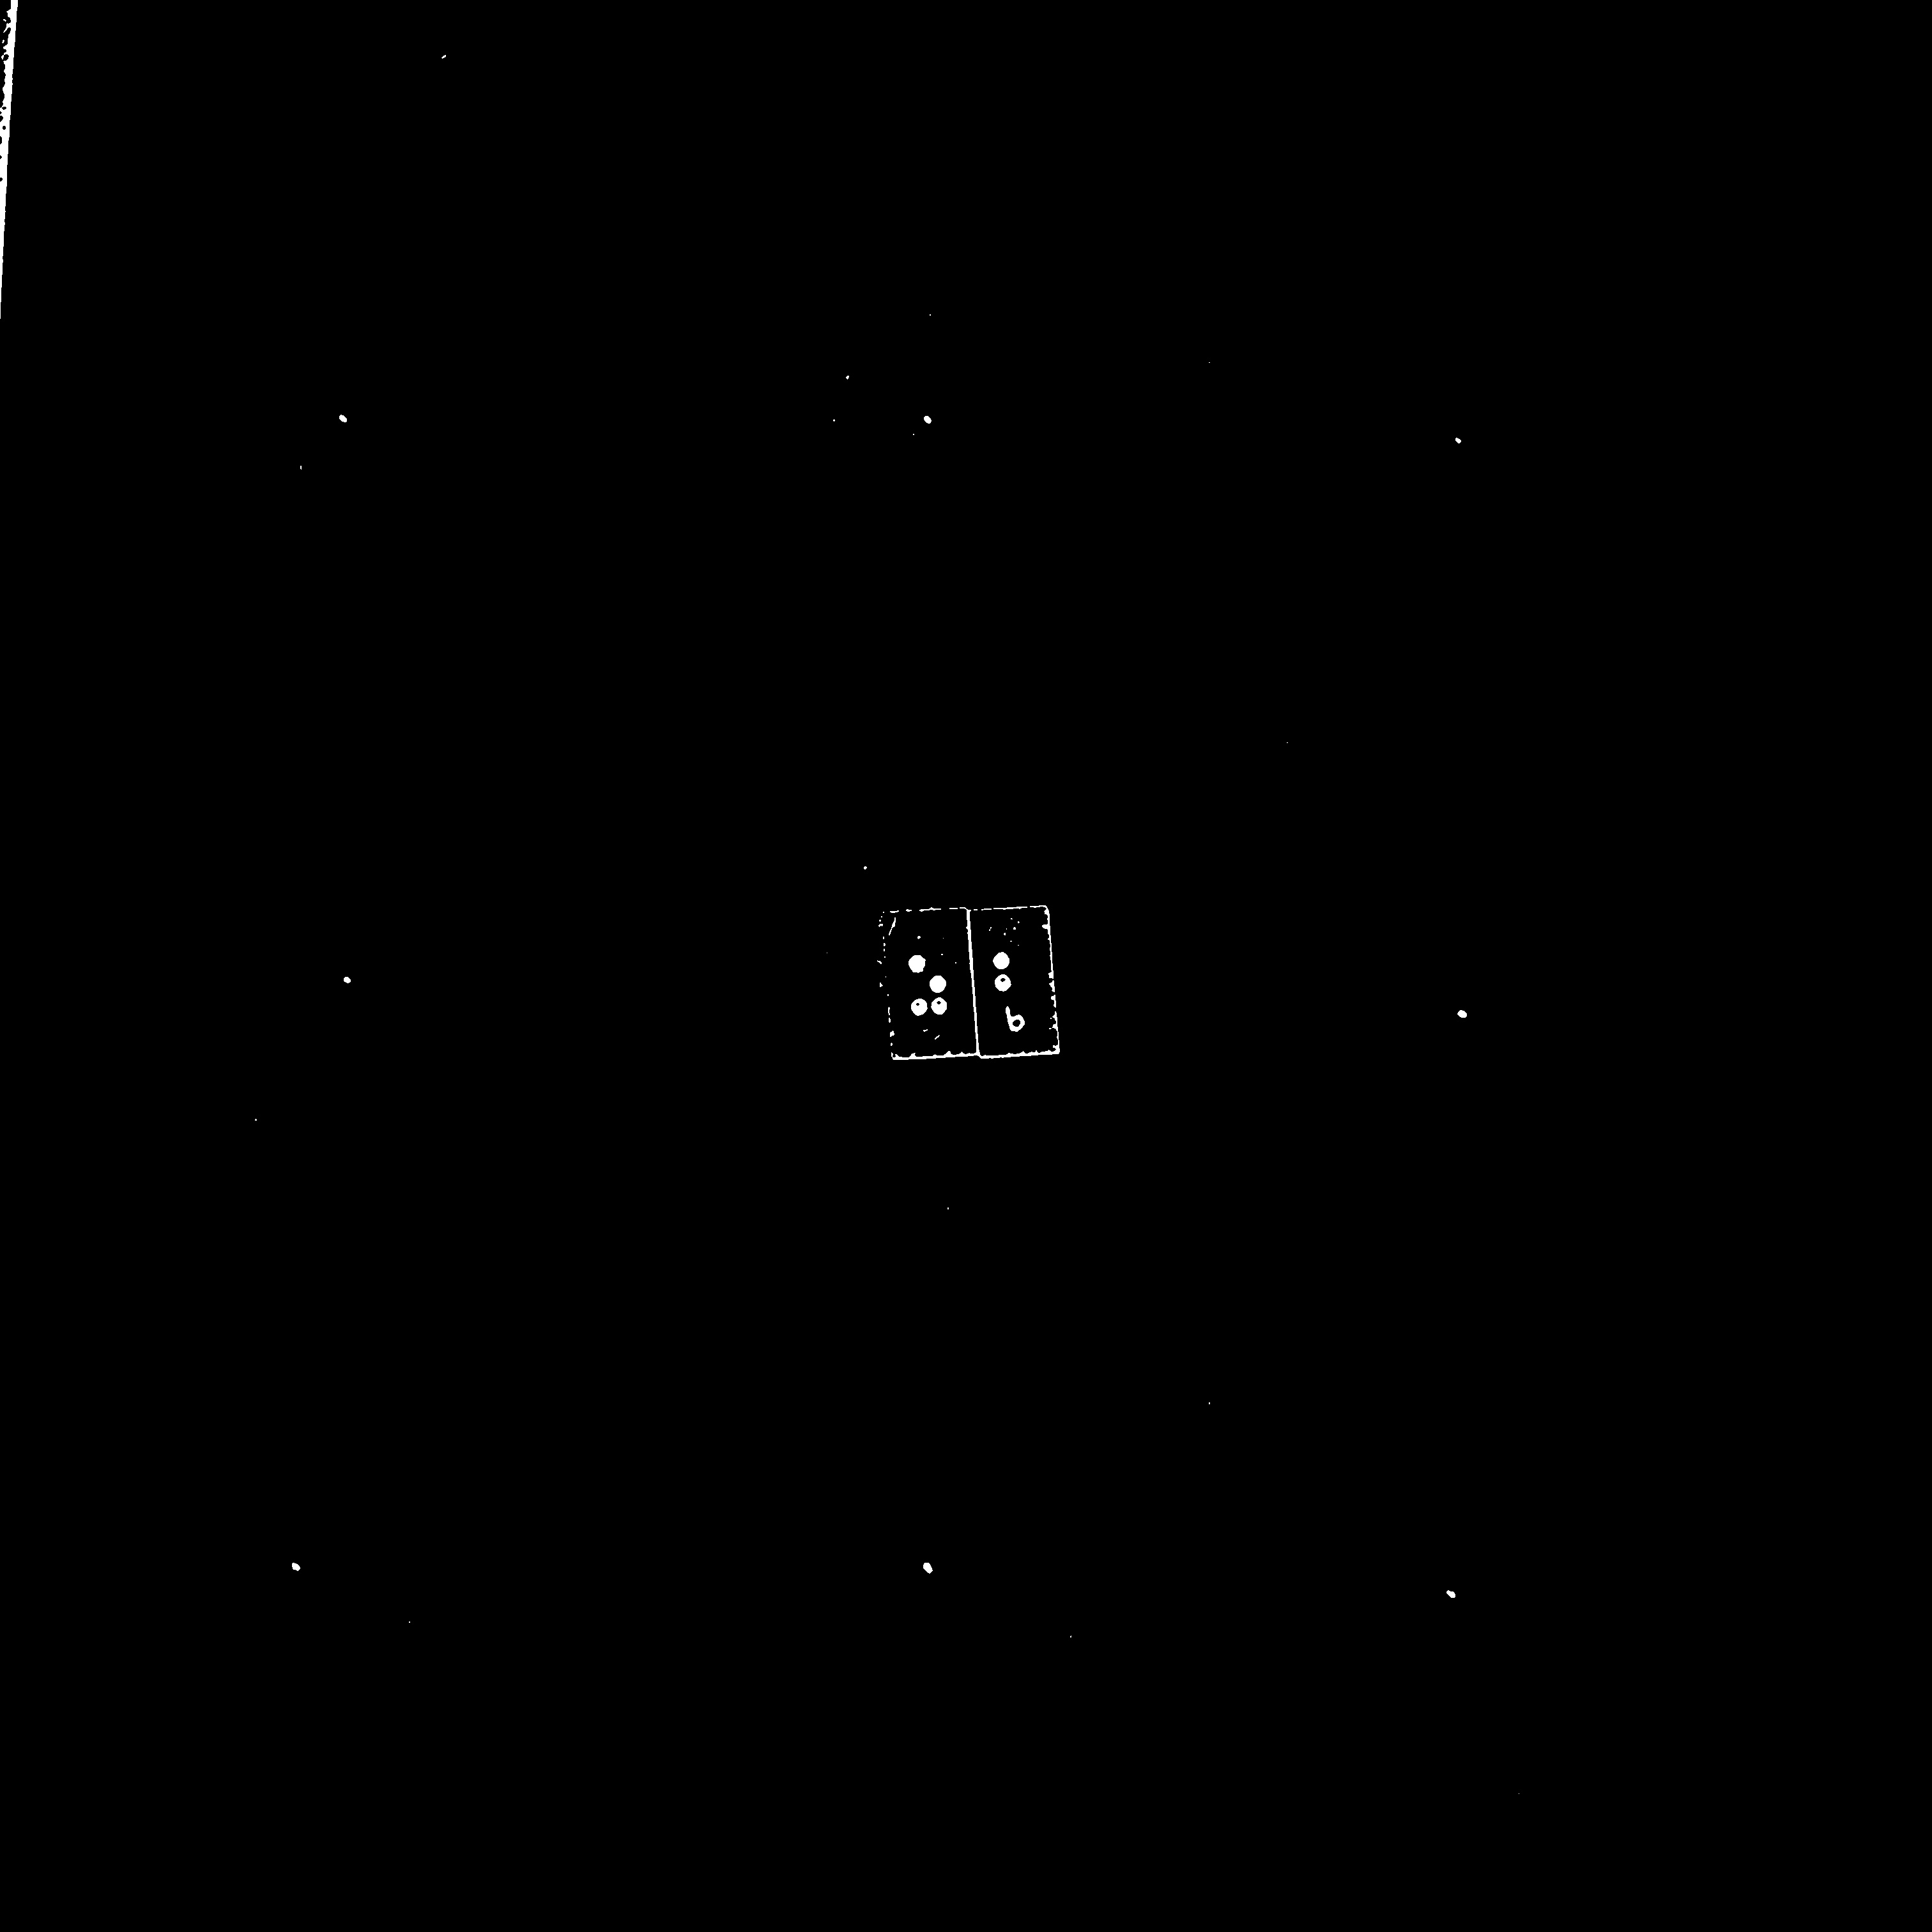b: (988, 945, 1034, 1013)
z: (901, 945, 954, 1024)
